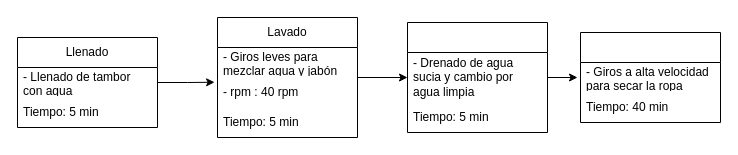
Image size: 738x155. Some labels were removed from this diagram. The box of each missing label's shape, as (x1, y1, x2, y2) in pixels:
Centrifugado: (580, 32, 720, 122)
Enjuague: (406, 22, 548, 132)
